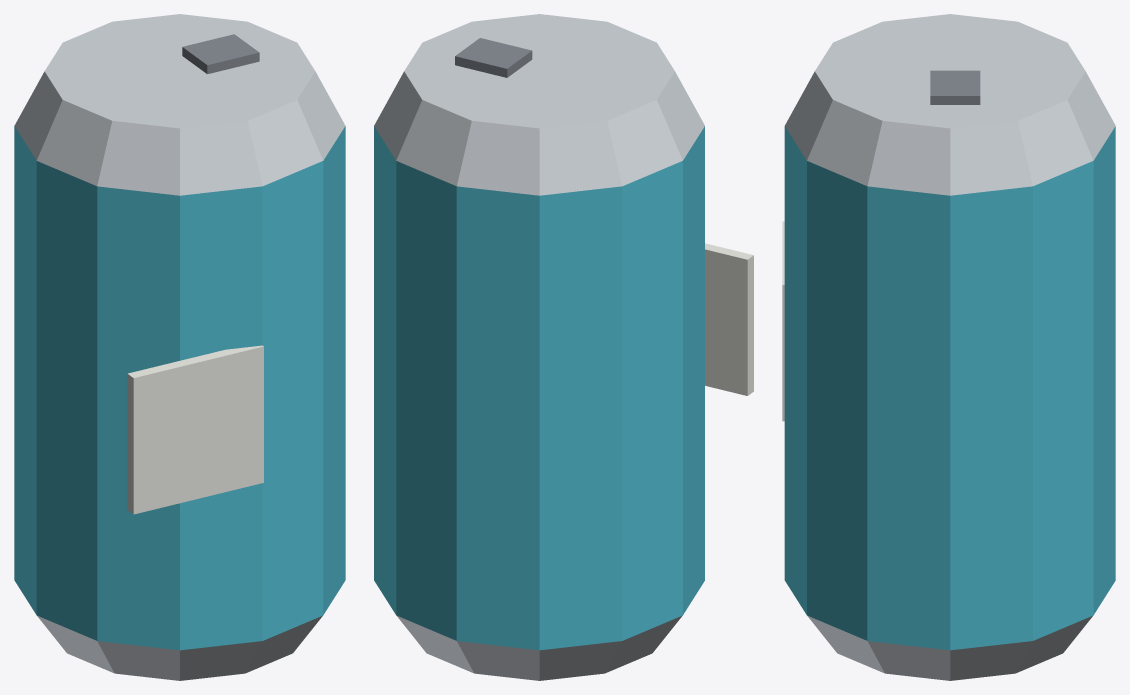
File: soda_can.glb
3 views of the same model, side by side, from view 1: azimuth 30°, elevation 25°; view 2: azimuth 150°, elevation 25°; view 3: azimuth 270°, elevation 25° (orthographic).
Parts seen in each view (by area): view 1: soda_can; view 2: soda_can; view 3: soda_can.
Boxes of the visible parts, x1,y1,x2,y2 form: soda_can: [14, 14, 345, 680]; soda_can: [374, 14, 753, 680]; soda_can: [782, 14, 1115, 680].
Bounding box in the file's own units: 0.066 × 0.124 × 0.0665.
Materials: 1 (1 with a texture image).
